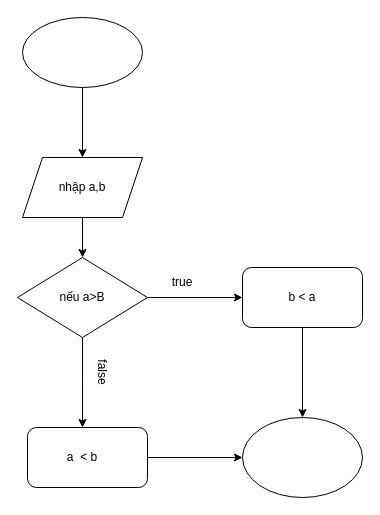
This 380x515 diagram has some shape labels left out. The centre of each missing label's shape, as x and y in pixels:
and: the point at 302,457
start: the point at 82,52
